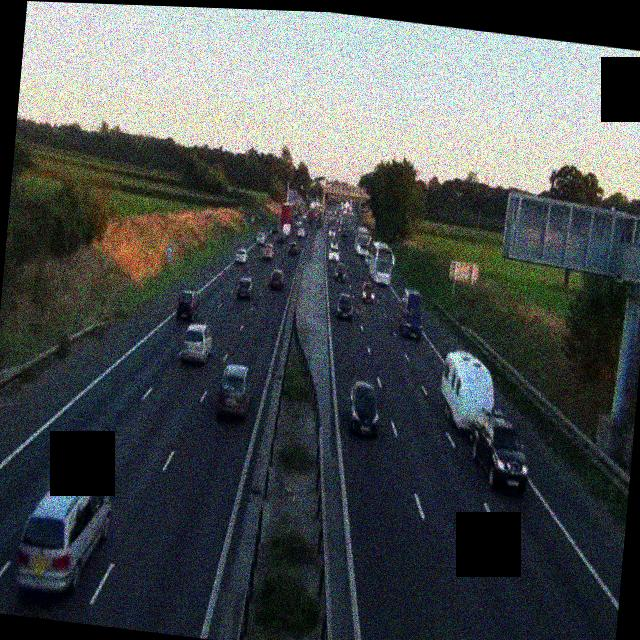bus: (367, 238, 395, 285), (354, 225, 370, 255)
car: (13, 471, 113, 602), (466, 412, 532, 495), (344, 378, 382, 439), (217, 361, 254, 421), (178, 320, 215, 366), (397, 288, 426, 339), (175, 289, 200, 324), (334, 290, 354, 320), (236, 275, 254, 299), (358, 278, 376, 302), (268, 266, 284, 290), (327, 245, 341, 264), (234, 245, 248, 263), (260, 243, 273, 261), (332, 262, 345, 280), (287, 240, 298, 256), (328, 228, 337, 241)
truck: (433, 348, 538, 495), (437, 349, 498, 435)
